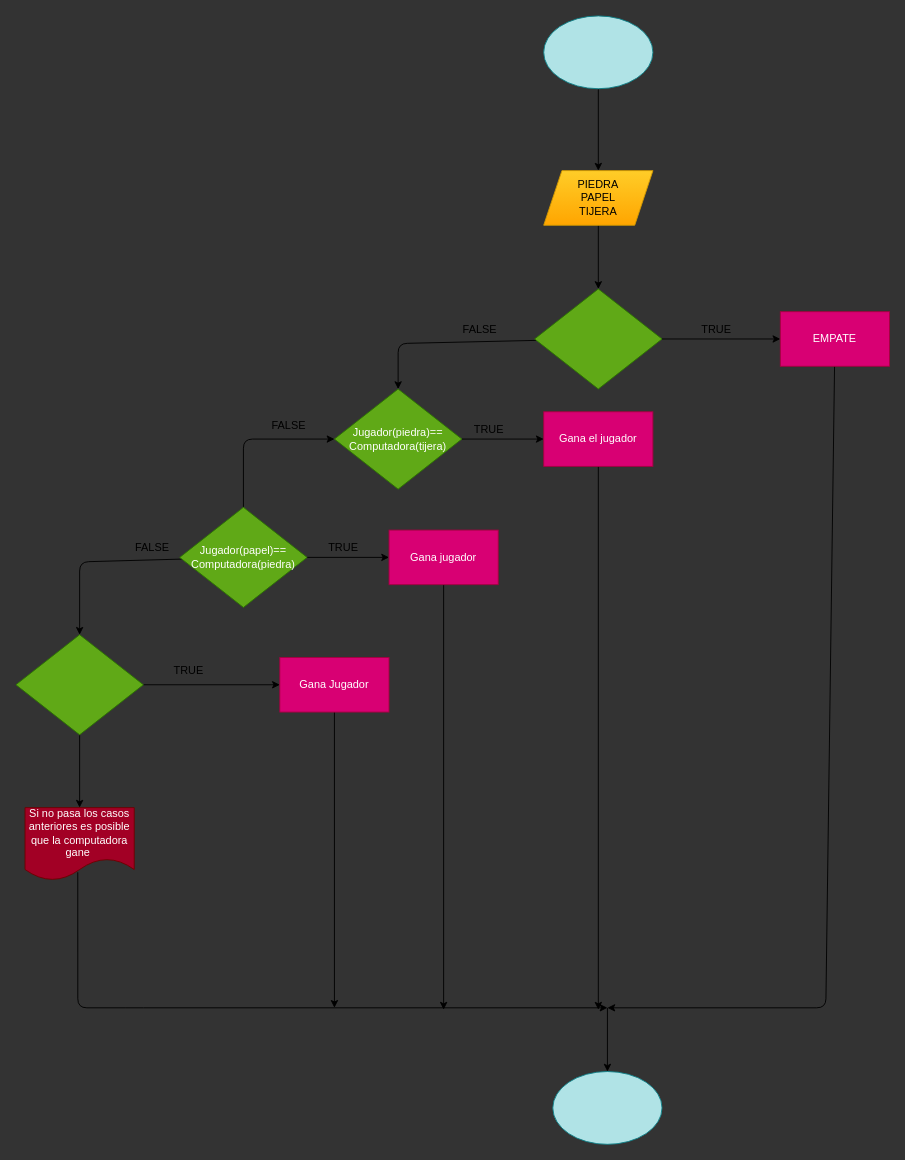
Some shapes in this 905 by 1160 pixel diagram are drawn without their labels. Each missing label, with the box of its shape:
FIN: (552, 1071, 662, 1144)
INICIO: (543, 15, 653, 89)
Jugador(tijera)== Computadora(papel): (15, 634, 143, 735)
Jugador==Computador: (534, 288, 662, 389)
